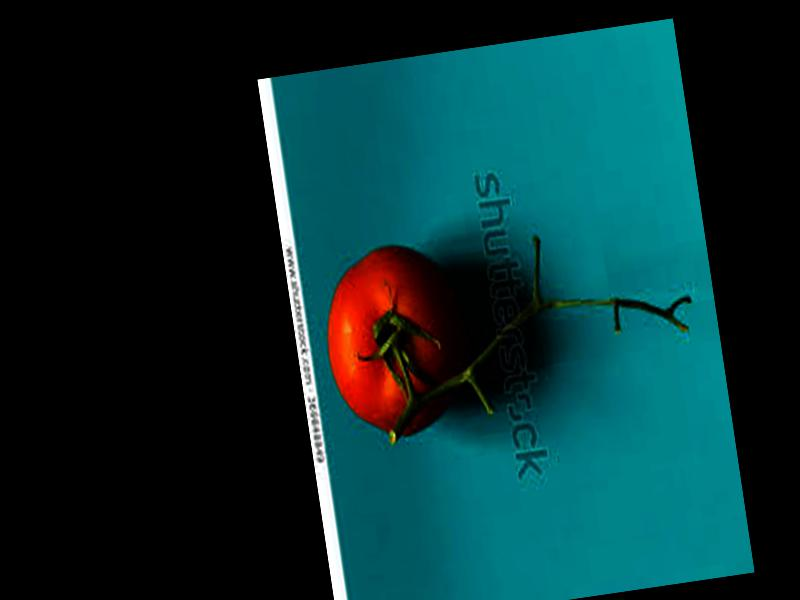Tomato: (316, 238, 477, 446)
